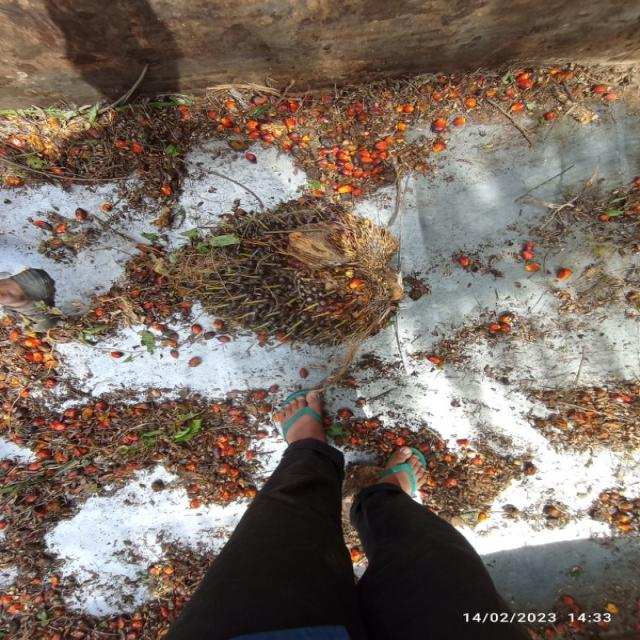fraksi 00: (160, 193, 406, 351)
